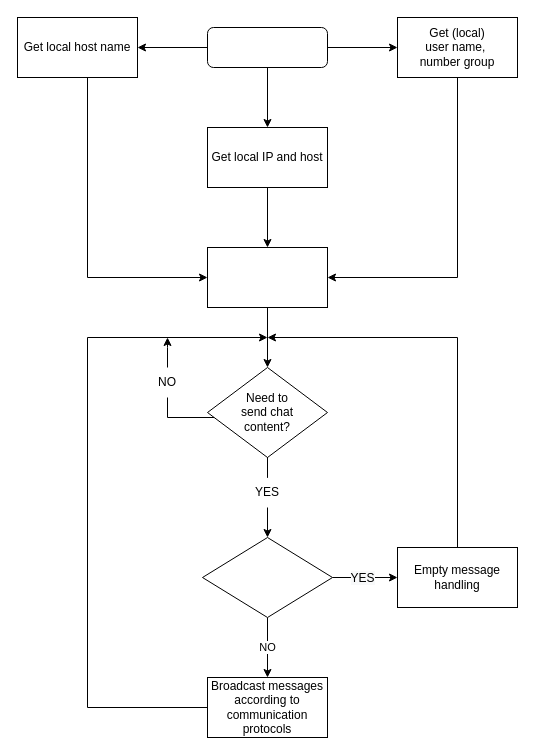
The diagram is 535 pixels wide and 755 high, and some of its shapes have lost their labels. The centre of each missing label's shape, as x and y in pixels:
"Is the send content empty?" belongs at pixel 267 577.
"Join chat" belongs at pixel 267 47.
"Specify the port to broadcast the above information" belongs at pixel 267 277.
